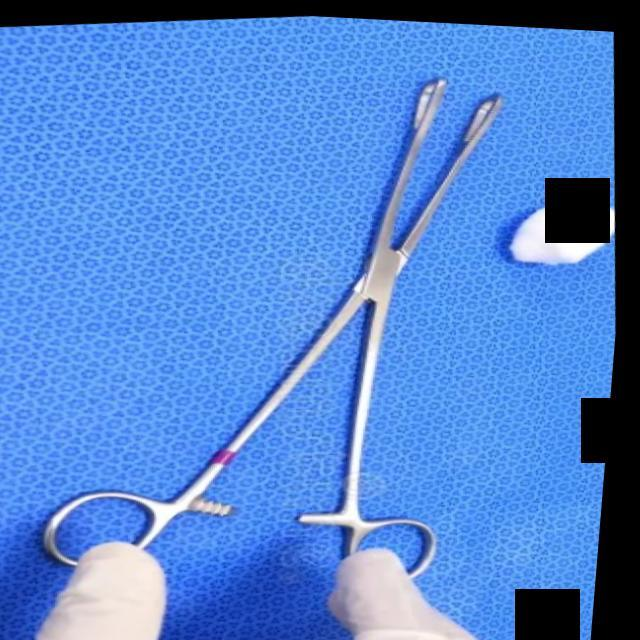Sponge Holding Forceps: (0, 49, 556, 616)
